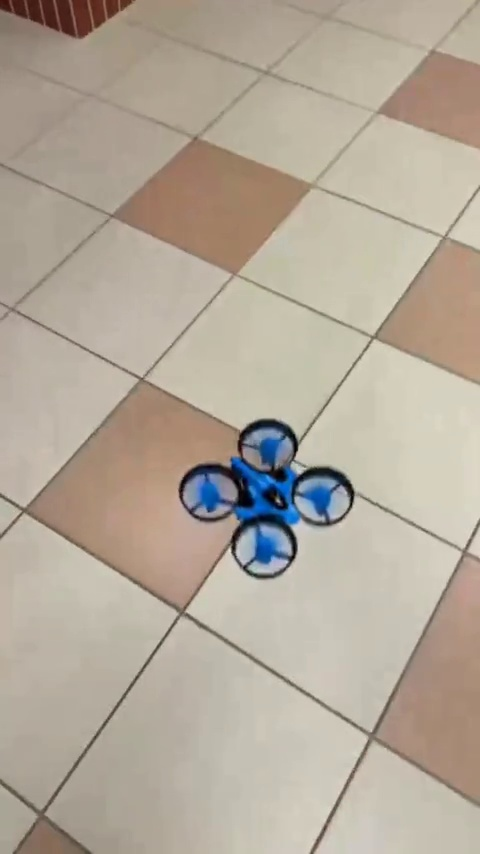drone: (179, 421, 352, 575)
